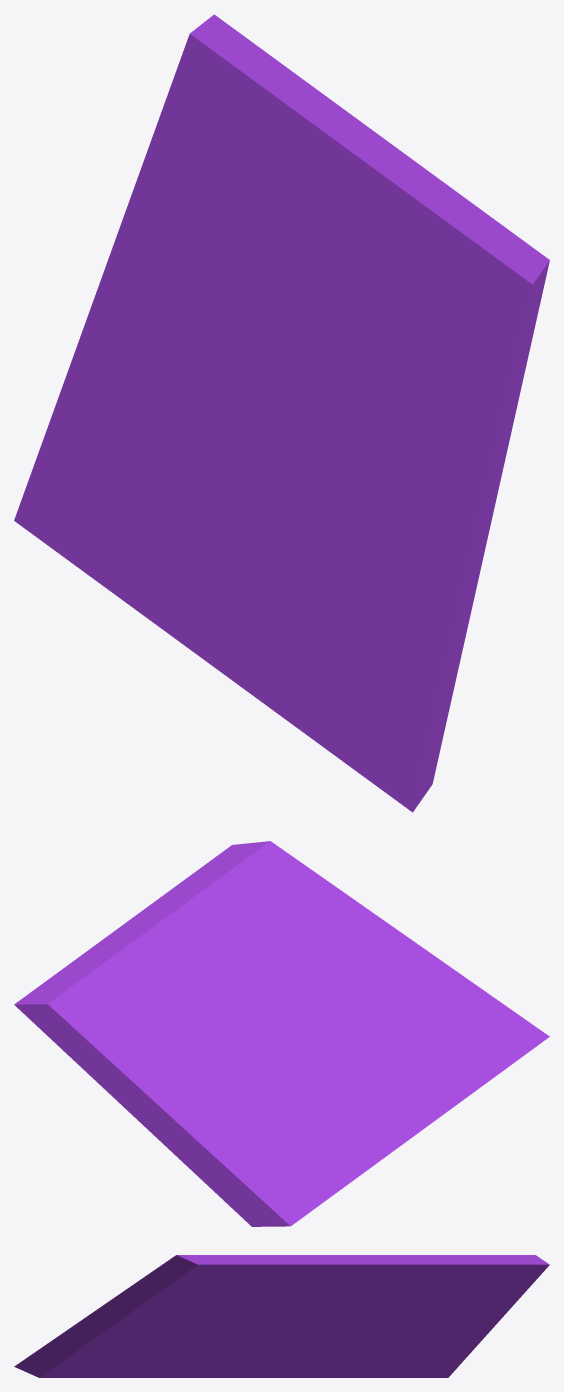
File: Window_113.fbx
3 renders of one model, top to bottom at view 1: azimuth 30°, elevation 25°; view 2: azimuth 150°, elevation 25°; view 3: azimuth 270°, elevation 25°, orthographic. The views are drawn at different scales.
Visible parts, largest first — view 1: Window_113; view 2: Window_113; view 3: Window_113.
Part boxes in pixels (bbox=[...]): Window_113: bbox=[14, 14, 549, 812]; Window_113: bbox=[14, 841, 549, 1226]; Window_113: bbox=[14, 1255, 549, 1377].
Size of the model in its own units: 720 by 763 by 2038.
